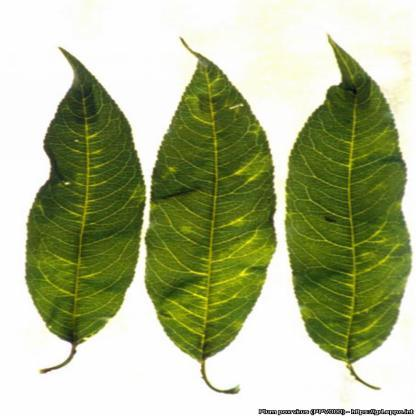Peach leaf: (135, 33, 283, 401), (284, 24, 410, 398), (19, 35, 148, 380)
